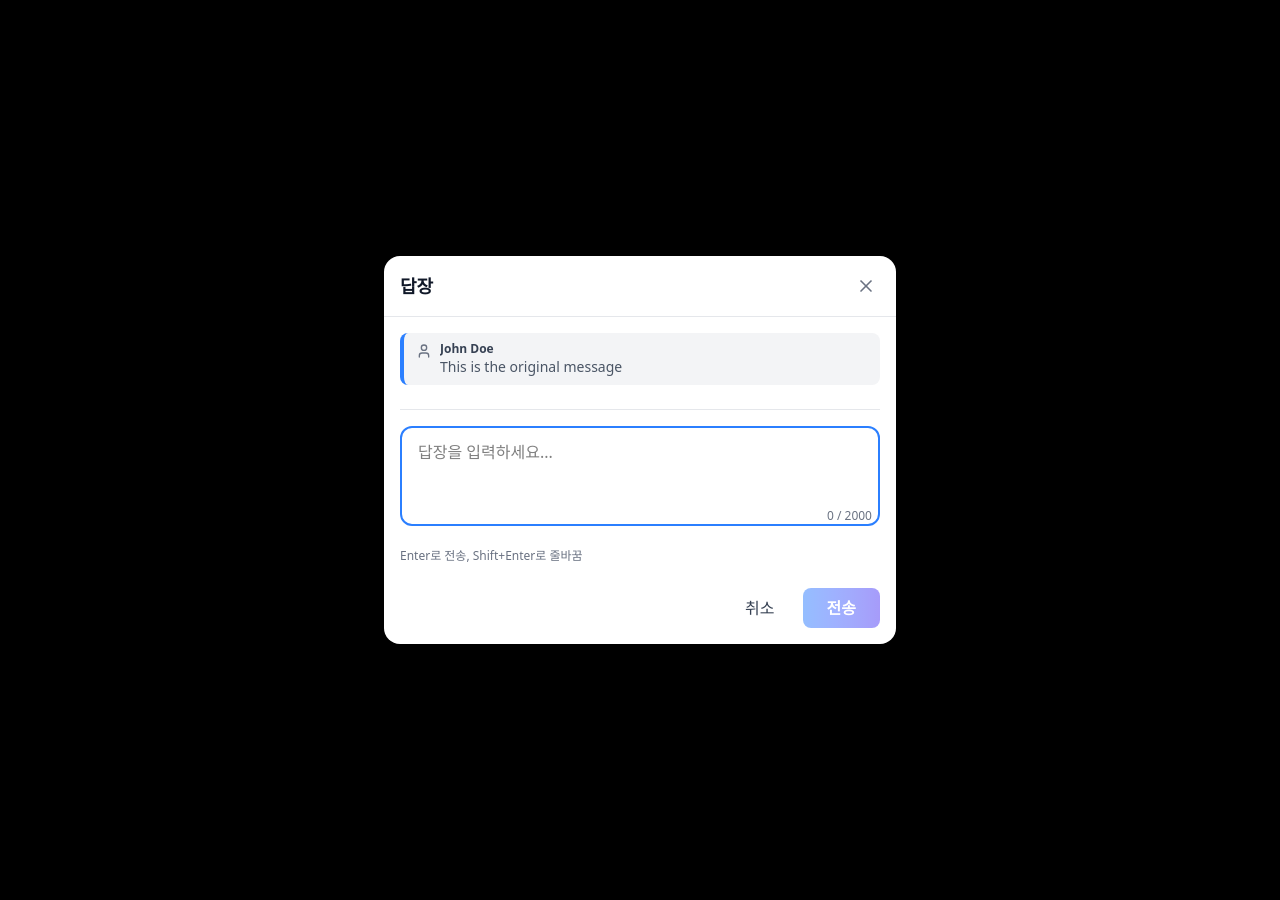
Test: ReplyModal › send reply functionality › should handle send error and display error message
This screenshot has width=1280, height=900.
Step 1. Type "Reply text" into the text box named "답장 입력" → (640, 476), box [400,426,880,526]
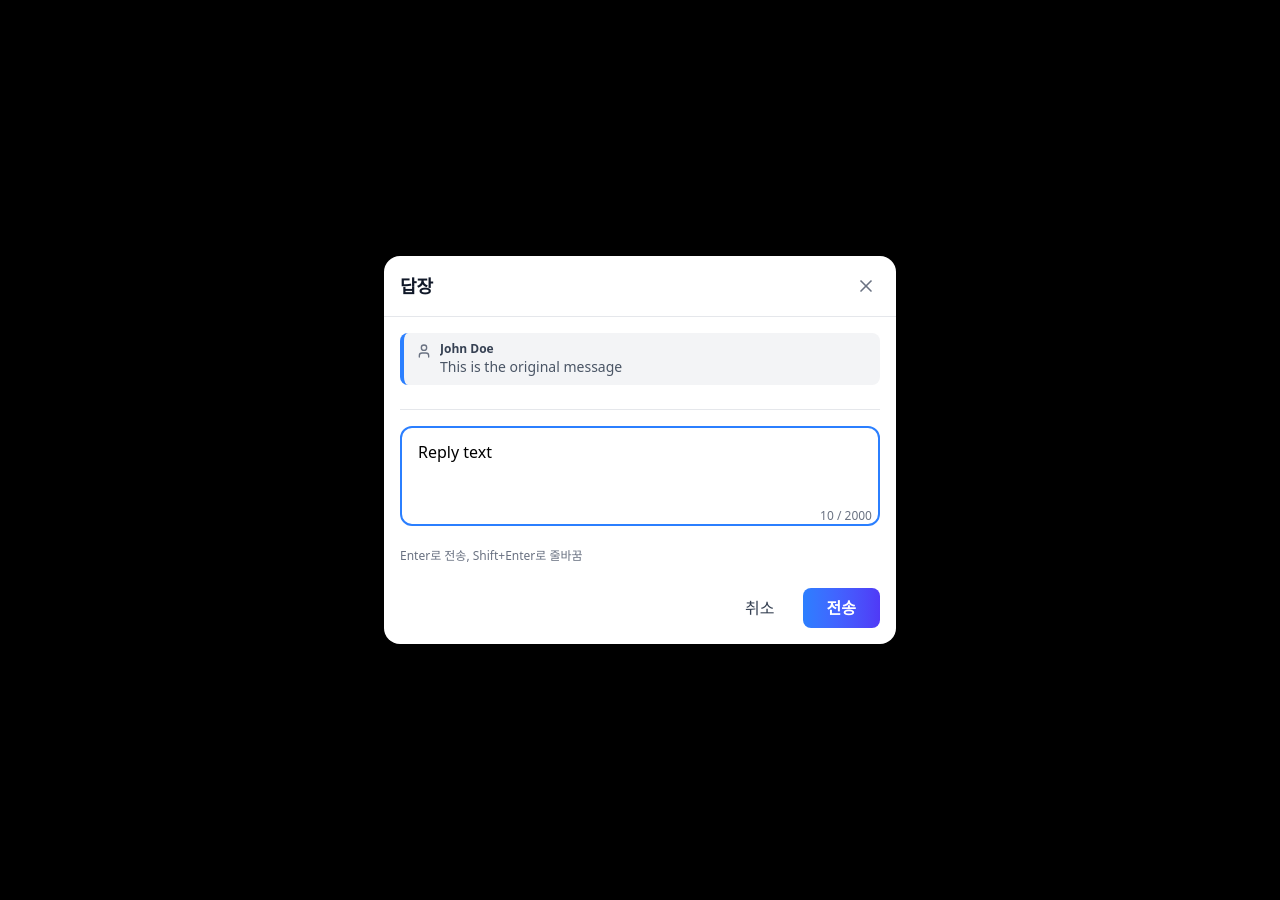
Step 2. Click the button "전송" → (841, 608), box [802,588,880,628]
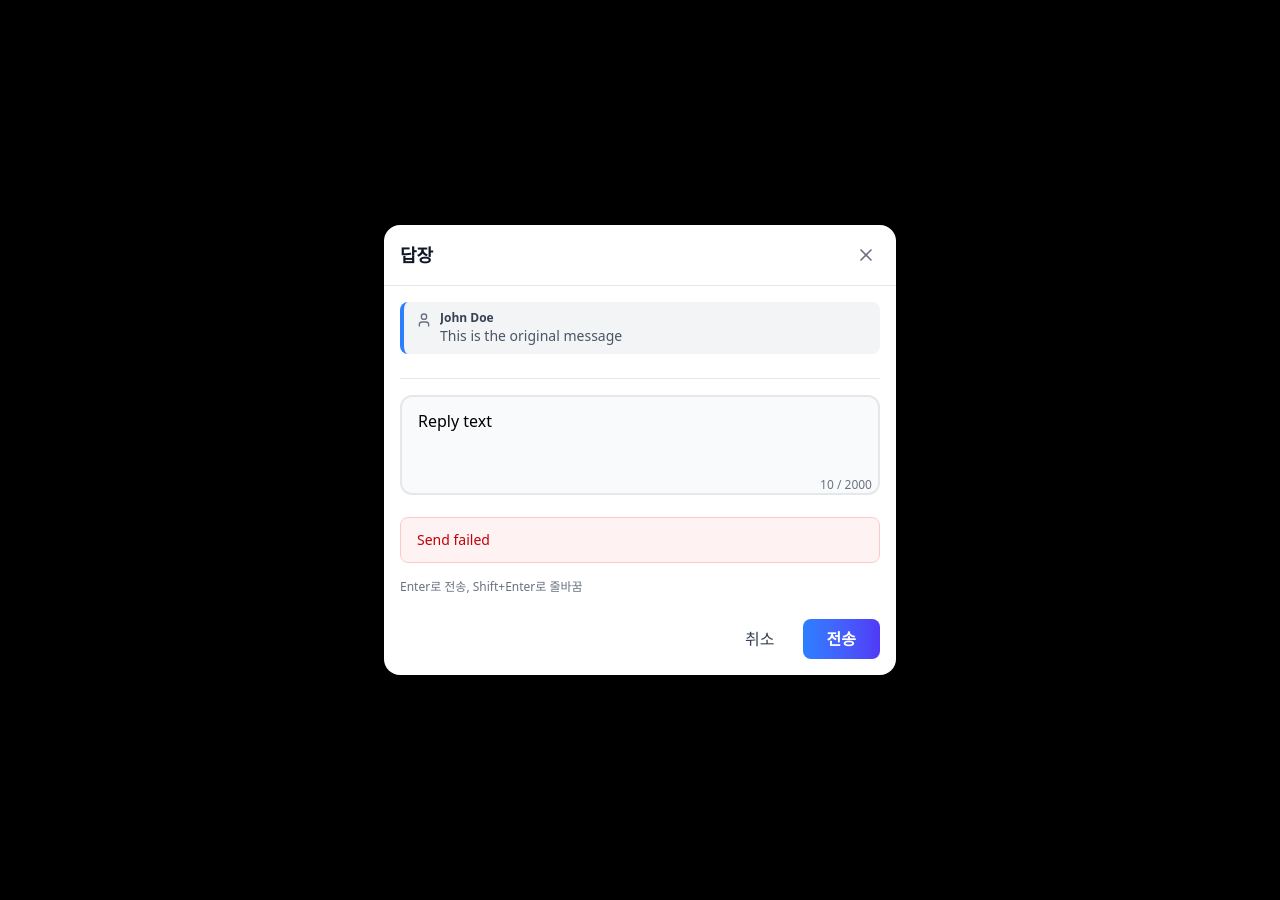
Expected: the text "Send failed" is shown, [400,517,880,563]
